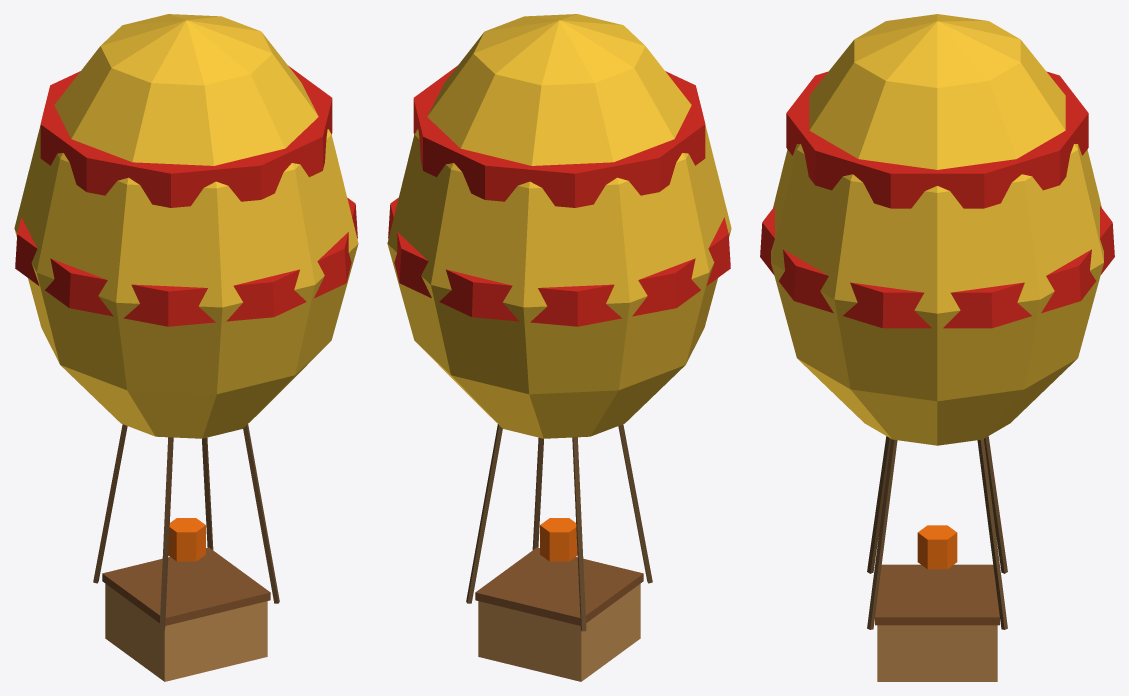
File: sky_balloon_yellow.glb
3 renders of one model, left to right at view 1: azimuth 30°, elevation 25°; view 2: azimuth 150°, elevation 25°; view 3: azimuth 270°, elevation 25°, orthographic.
Parts seen in each view (by area): view 1: balloon_yellow; view 2: balloon_yellow; view 3: balloon_yellow.
Part boxes in pixels (<box>): balloon_yellow: <box>14,14,358,681</box>; balloon_yellow: <box>387,14,731,681</box>; balloon_yellow: <box>760,14,1114,681</box>.
Size of the model in its own units: 3.2 by 6.4 by 3.24.
